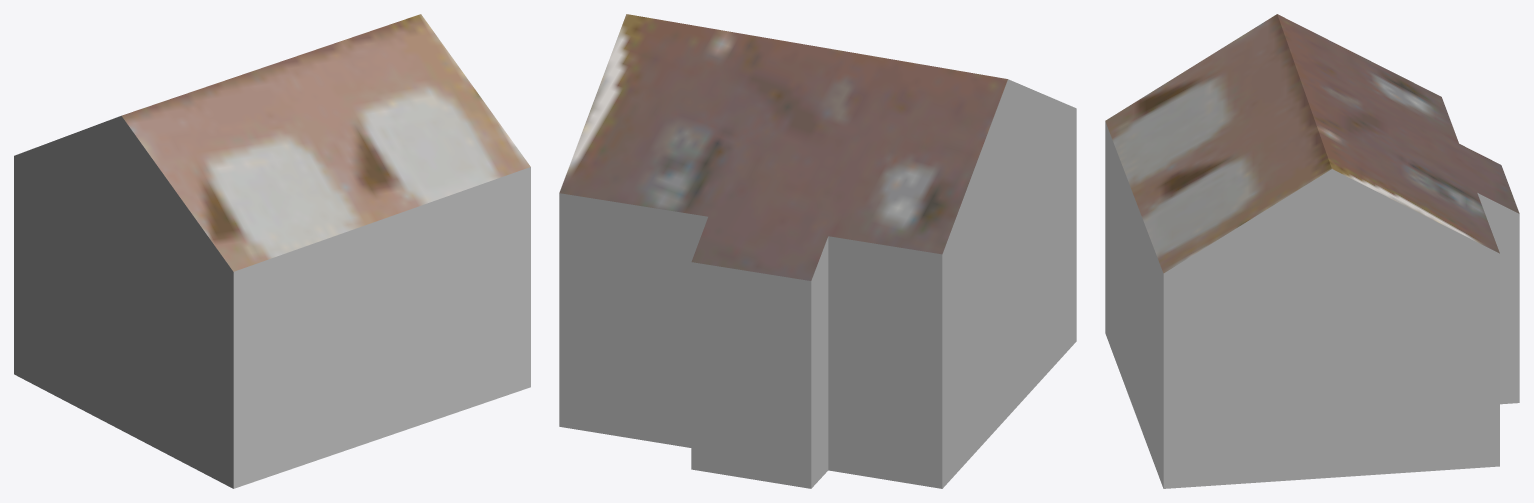
Rendered from DEBW_0010007TxdC.gltf.
3 renders of one model, left to right at view 1: azimuth 30°, elevation 25°; view 2: azimuth 150°, elevation 25°; view 3: azimuth 270°, elevation 25°, orthographic. The views are drawn at different scales.
Visible parts, largest first — view 1: Z_UP; view 2: Z_UP; view 3: Z_UP.
Part boxes in pixels (x1,y1,x2,y2): Z_UP: (14,14,530,488); Z_UP: (559,14,1076,488); Z_UP: (1105,14,1519,488).
Bounding box in the file's own units: 13.1 × 10.57 × 12.86.
Materials: 2 (1 with a texture image).
